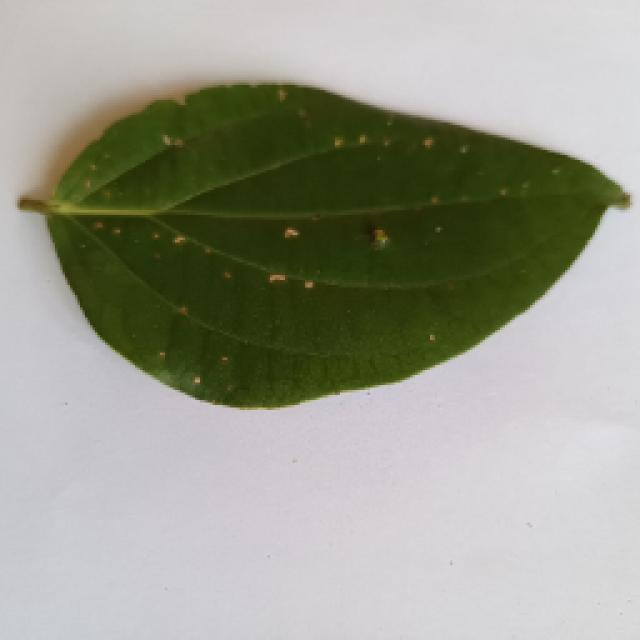pollu-disease: (23, 72, 635, 422)
